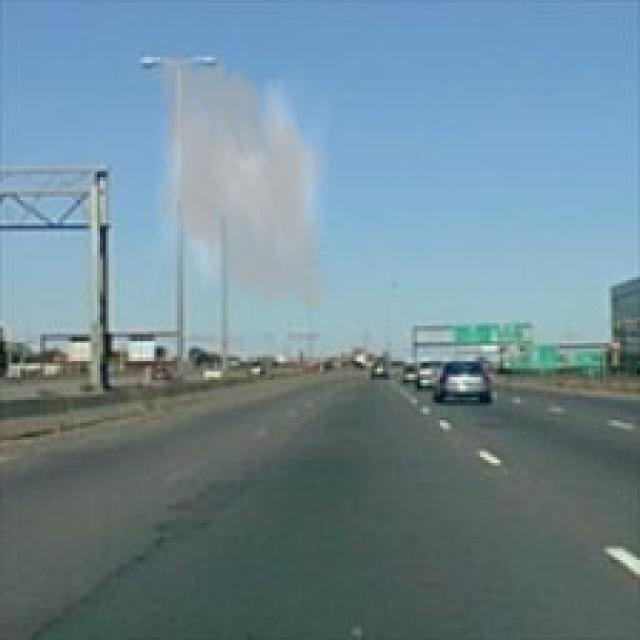Smoke: (140, 43, 340, 323)
